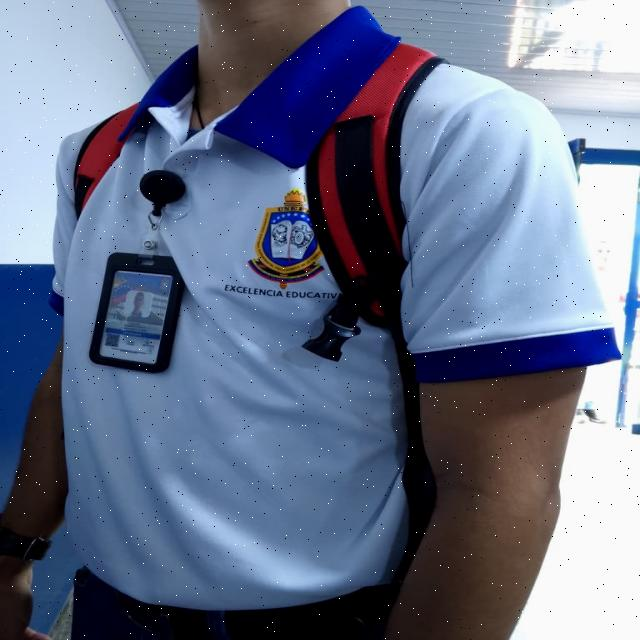carnet: (100, 270, 174, 364)
uniforme_superior: (52, 5, 624, 612)
